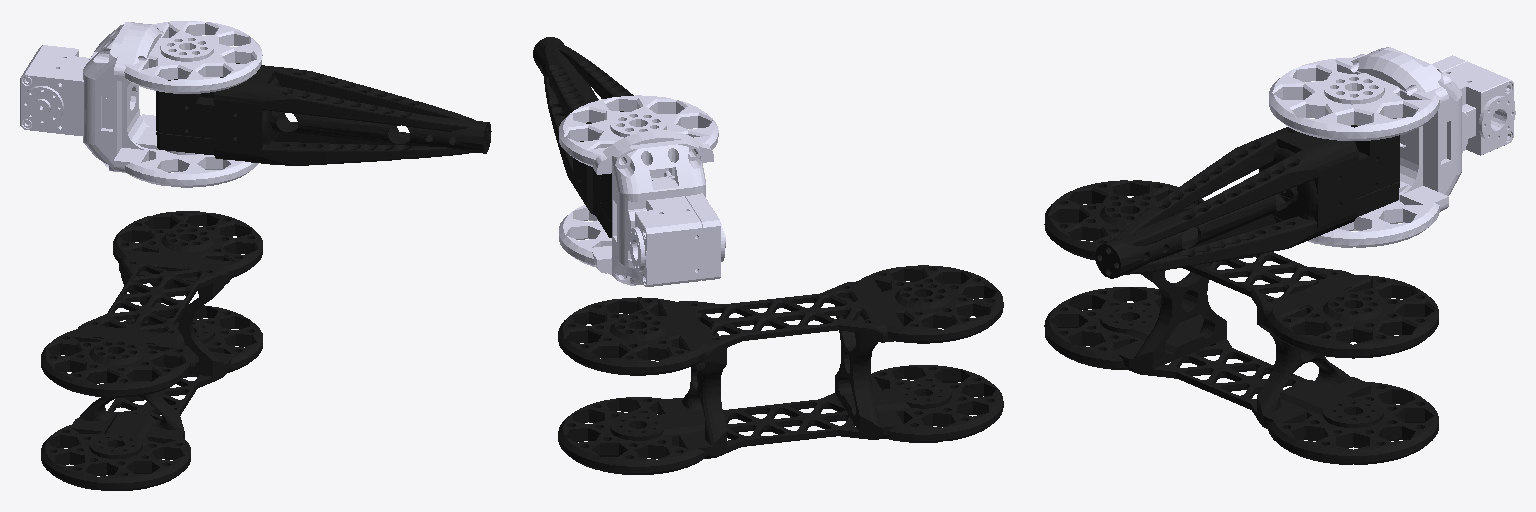
robot.urdf — Moonbot1:
<?xml version="1.0" ?>
<robot name="Moonbot1" xmlns:xacro="http://www.ros.org/wiki/xacro">
  

  <material name="Grey">
      <color rgba="0.9 0.9 0.98 1" />
  </material>
  <material name="Black">
      <color rgba="0.15 0.15 0.15 1" />
  </material>

  <link name="base_link">
  </link>

  <joint name="moonbot_attachment" type="fixed">
    <parent link="base_link"/>
    <child link="BODY"/>
    <origin rpy="0 0 2.35619449" xyz="0 0 0"/>
  </joint>
  
  <link name="BODY">
    <visual>
      <origin xyz="0 0 0" rpy="0 0 0" />
      <geometry>
        <mesh filename="package://rviz_basic/base_link.STL" />
      </geometry>
      <material name="Black" />
    </visual>
    <collision>
      <origin xyz="0 0 0" rpy="0 0 0" />
      <geometry>
        <mesh filename="package://rviz_basic/base_link.STL" />
      </geometry>
    </collision>
  </link>

  <joint name="Leg1_Joint1" type="revolute">
    <origin xyz="-0.128 -0.128 0" rpy="0 0 -2.356" />
    <parent link="BODY" />
    <child link="Leg1_Link1" />
    <axis xyz="0 0 1" />
    <limit
      lower="-1.57"
      upper="1.57"
      effort="2"
      velocity="3" />
  </joint>

  <link name="Leg1_Link1">
    <inertial>
      <origin xyz="-0.181 0 0" rpy="0 0 2.356" />
      <mass value="0.19524" />
      <inertia
        ixx="0.00013212"
        ixy="-2.569E-05"
        ixz="3.8551E-10"
        iyy="0.00013211"
        iyz="4.1271E-10"
        izz="0.00012874" />
    </inertial>
    <visual>
      <origin xyz="-0.181 0 0" rpy="0 0 2.356" />
      <geometry>
        <mesh filename="package://rviz_basic/Leg1_Link1.STL" />
      </geometry>
      <material name="Grey" />
    </visual>
    <collision>
      <origin xyz="-0.181 0 0" rpy="0 0 2.356" />
      <geometry>
        <mesh filename="package://rviz_basic/Leg1_Link1.STL" />
      </geometry>
    </collision>
  </link>


  <link name="Leg1_Link2">
    <inertial>
      <origin xyz="0.1051 0.283 0" rpy="1.571 0.785 1.571" />
      <mass value="0.2225" />
      <inertia
        ixx="0.00024185"
        ixy="1.6469E-05"
        ixz="2.7889E-10"
        iyy="0.00024185"
        iyz="-2.7889E-10"
        izz="0.00016006" />
    </inertial>
    <visual>
      <origin xyz="0.1051 0.283 0" rpy="1.571 0.785 1.571" />
      <geometry>
        <mesh filename="package://rviz_basic/Leg1_Link2.STL" />
      </geometry>
      <material name="Black" />
    </visual>
    <collision>
      <origin xyz="0.1051 0.283 0" rpy="1.571 0.785 1.571" />
      <geometry>
        <mesh filename="package://rviz_basic/Leg1_Link2.STL" />
      </geometry>
    </collision>
  </link>

  <joint name="Leg1_Joint2" type="revolute">
    <origin xyz="0.102 0 0.008" rpy="1.571 1.571 0" />
    <parent link="Leg1_Link1" />
    <child link="Leg1_Link2" />
    <axis xyz="0 0 1" />
    <limit
      lower="-1.57"
      upper="1.57"
      effort="2"
      velocity="3" />
  </joint>

  <link name="Leg1_Link3">
    <inertial>
      <origin xyz="-0.1095 -0.28 0.0023" rpy="1.55 0.785 -1.6" />
      <mass value="0.14207" />
      <inertia
        ixx="4.5915E-05"
        ixy="-5.5477E-06"
        ixz="-6.9185E-10"
        iyy="4.5915E-05"
        iyz="1.1922E-09"
        izz="5.1594E-05" />
    </inertial>
    <visual>
      <origin xyz="-0.1095 -0.28 0.0023" rpy="1.55 0.785 -1.6" />
      <geometry>
        <mesh filename="package://rviz_basic/Leg1_Link3.STL" />
      </geometry>
      <material name="Black" />
    </visual>
    <collision>
      <origin xyz="-0.1095 -0.28 0.0023" rpy="1.55 0.785 -1.6" />
      <geometry>
        <mesh filename="package://rviz_basic/Leg1_Link3.STL" />
      </geometry>
    </collision>
  </link>

  <joint name="Leg1_Joint3" type="revolute">
    <origin xyz="0.113 0 0" rpy="0 0 0" />
    <parent link="Leg1_Link2" />
    <child link="Leg1_Link3" />
    <axis xyz="0 0 1" />
    <limit
      lower="-1.57"
      upper="1.57"
      effort="2"
      velocity="3" />
  </joint>

  <link name="Leg2_Link1">
    <inertial>
      <origin xyz="-0.181 0 0" rpy="0 0 -2.356" />
      <mass value="0.19524" />
      <inertia
        ixx="0.00013211"
        ixy="2.569E-05"
        ixz="4.1271E-10"
        iyy="0.00013212"
        iyz="-3.8551E-10"
        izz="0.00012874" />
    </inertial>
    <visual>
      <origin xyz="-0.181 0 0" rpy="0 0 -2.356" />
      <geometry>
        <mesh filename="package://rviz_basic/Leg2_Link1.STL" />
      </geometry>
      <material name="Grey" />
    </visual>
    <collision>
      <origin xyz="-0.181 0 0" rpy="0 0 -2.356" />
      <geometry>
        <mesh filename="package://rviz_basic/Leg2_Link1.STL" />
      </geometry>
    </collision>
  </link>
  
  <joint name="Leg2_Joint1" type="revolute">
    <origin xyz="-0.128 0.128 0" rpy="0 0 2.356" />
    <parent link="BODY" />
    <child link="Leg2_Link1" />
    <axis xyz="0 0 1" />
    <limit
      lower="-1.57"
      upper="1.57"
      effort="2"
      velocity="3" />
  </joint>

  <link name="Leg2_Link2">
    <inertial>
      <origin xyz="0.1051 -0.283 0" rpy="1.571 2.356 1.571" />
      <mass value="0.2225" />
      <inertia
        ixx="0.00024185"
        ixy="-1.6469E-05"
        ixz="-3.0519E-10"
        iyy="0.00024185"
        iyz="3.0519E-10"
        izz="0.00016006" />
    </inertial>
    <visual>
      <origin xyz="0.1051 -0.283 0" rpy="1.571 2.356 1.571" />
      <geometry>
        <mesh filename="package://rviz_basic/Leg2_Link2.STL" />
      </geometry>
      <material name="Black" />
    </visual>
    <collision>
      <origin xyz="0.1051 -0.283 0" rpy="1.571 2.356 1.571" />
      <geometry>
        <mesh filename="package://rviz_basic/Leg2_Link2.STL" />
      </geometry>
    </collision>
  </link>

  <joint name="Leg2_Joint2" type="revolute">
    <origin xyz="0.102 0 0.008" rpy="1.571 1.571 0" />
    <parent link="Leg2_Link1" />
    <child link="Leg2_Link2" />
    <axis xyz="0 0 1" />
    <limit
      lower="-1.57"
      upper="1.57"
      effort="2"
      velocity="3" />
  </joint>

  <link name="Leg2_Link3">
    <inertial>
      <origin xyz="-0.1031 -0.28398 0.0027" rpy="-1.6 -2.356 1.6" />
      <mass value="0.14207" />
      <inertia
        ixx="4.5915E-05"
        ixy="5.5477E-06"
        ixz="1.1923E-09"
        iyy="4.5915E-05"
        iyz="6.9184E-10"
        izz="5.1594E-05" />
    </inertial>
    <visual>
      <origin xyz="-0.1031 -0.28398 0.0027" rpy="-1.6 -2.356 1.6" />
      <geometry>
        <mesh filename="package://rviz_basic/Leg2_Link3.STL" />
      </geometry>
      <material name="Black" />
    </visual>
    <collision>
      <origin xyz="-0.1031 -0.28398 0.0027" rpy="-1.6 -2.356 1.6" />
      <geometry>
        <mesh filename="package://rviz_basic/Leg2_Link3.STL" />
      </geometry>
    </collision>
  </link>

  <joint name="Leg2_Joint3" type="revolute">
    <origin xyz="0.113 0 0" rpy="0 0 0" />
    <parent link="Leg2_Link2" />
    <child link="Leg2_Link3" />
    <axis xyz="0 0 1" />
    <limit
      lower="-1.57"
      upper="1.57"
      effort="2"
      velocity="3" />
  </joint>

  <link name="Leg3_Link1">
    <inertial>
      <origin xyz="-0.181 0 0" rpy="0 0 0.785" />
      <mass value="0.19524" />
      <inertia
        ixx="0.00013212"
        ixy="2.569E-05"
        ixz="3.8551E-10"
        iyy="0.00013211"
        iyz="-4.1271E-10"
        izz="0.00012874" />
    </inertial>
    <visual>
      <origin xyz="-0.181 0 0" rpy="0 0 0.785" />
      <geometry>
        <mesh filename="package://rviz_basic/Leg3_Link1.STL" />
      </geometry>
      <material name="Grey" />
    </visual>
    <collision>
      <origin xyz="-0.181 0 0" rpy="0 0 0.785" />
      <geometry>
        <mesh filename="package://rviz_basic/Leg3_Link1.STL" />
      </geometry>
    </collision>
  </link>
  
  <joint name="Leg3_Joint1" type="revolute">
    <origin xyz="0.128 -0.128 0" rpy="0 0 -0.785" />
    <parent link="BODY" />
    <child link="Leg3_Link1" />
    <axis xyz="0 0 1" />
    <limit
      lower="-1.57"
      upper="1.57"
      effort="2"
      velocity="3" />
  </joint>

  <link name="Leg3_Link2">
    <inertial>
      <origin xyz="0.1051 -0.283 0" rpy="1.571 -0.785 1.571" />
      <mass value="0.2225" />
      <inertia
        ixx="0.00024185"
        ixy="-1.6469E-05"
        ixz="-3.0519E-10"
        iyy="0.00024185"
        iyz="3.0519E-10"
        izz="0.00016006" />
    </inertial>
    <visual>
      <origin xyz="0.1051 -0.283 0" rpy="1.571 -0.785 1.571" />
      <geometry>
        <mesh filename="package://rviz_basic/Leg3_Link2.STL" />
      </geometry>
      <material name="Black" />
    </visual>
    <collision>
      <origin xyz="0.1051 -0.283 0" rpy="1.571 -0.785 1.571" />
      <geometry>
        <mesh filename="package://rviz_basic/Leg3_Link2.STL" />
      </geometry>
    </collision>
  </link>

  <joint name="Leg3_Joint2" type="revolute">
    <origin xyz="0.102 0 0.008" rpy="1.571 1.571 0" />
    <parent link="Leg3_Link1" />
    <child link="Leg3_Link2" />
    <axis xyz="0 0 1" />
    <limit
      lower="-1.57"
      upper="1.57"
      effort="2"
      velocity="3" />
  </joint>

  <link name="Leg3_Link3">
    <inertial>
      <origin xyz="-0.1095 -0.283 0.00425" rpy="1.6 2.356 -1.55" />
      <mass value="0.14207" />
      <inertia
        ixx="4.5915E-05"
        ixy="5.5477E-06"
        ixz="-1.1923E-09"
        iyy="4.5915E-05"
        iyz="-6.9184E-10"
        izz="5.1594E-05" />
    </inertial>
    <visual>
      <origin xyz="-0.1095 -0.283 0.00425" rpy="1.6 2.356 -1.55" />
      <geometry>
        <mesh filename="package://rviz_basic/Leg3_Link3.STL" />
      </geometry>
      <material name="Black" />
    </visual>
    <collision>
      <origin xyz="-0.1095 -0.283 0.00425" rpy="1.6 2.356 -1.55" />
      <geometry>
        <mesh filename="package://rviz_basic/Leg3_Link3.STL" />
      </geometry>
    </collision>
  </link>

  <joint name="Leg3_Joint3" type="revolute">
    <origin xyz="0.113 0 0" rpy="0 0 0" />
    <parent link="Leg3_Link2" />
    <child link="Leg3_Link3" />
    <axis xyz="0 0 1" />
    <limit
      lower="-1.57"
      upper="1.57"
      effort="2"
      velocity="3" />
  </joint>
  
  <link name="Leg4_Link1">
    <inertial>
      <origin xyz="-0.181 0 0" rpy="0 0 -0.785" />
      <mass value="1.7613" />
      <inertia
        ixx="0.0022157"
        ixy="1.9729E-07"
        ixz="6.2687E-11"
        iyy="0.0022117"
        iyz="-1.9316E-10"
        izz="0.0037074" />
    </inertial>
    <visual>
      <origin xyz="-0.181 0 0" rpy="0 0 -0.785" />
      <geometry>
        <mesh filename="package://rviz_basic/Leg4_Link1.STL" />
      </geometry>
      <material name="Grey" />
    </visual>
    <collision>
      <origin xyz="-0.181 0 0" rpy="0 0 -0.785" />
      <geometry>
        <mesh filename="package://rviz_basic/Leg4_Link1.STL" />
      </geometry>
    </collision>
  </link>

  <joint name="Leg4_Joint1" type="revolute">
    <origin xyz="0.128 0.128 0" rpy="0 0 0.785" />
    <parent link="BODY" />
    <child link="Leg4_Link1" />
    <axis xyz="0 0 1" />
    <limit
      lower="-1.57"
      upper="1.57"
      effort="2"
      velocity="3" />
  </joint>
  
  <link name="Leg4_Link2">
    <inertial>
      <origin xyz="0.1051 -0.283 0" rpy="1.571 0.785 1.571" />
      <mass value="0.2225" />
      <inertia
        ixx="0.00024185"
        ixy="1.6469E-05"
        ixz="-3.0519E-10"
        iyy="0.00024185"
        iyz="-3.0519E-10"
        izz="0.00016006" />
    </inertial>
    <visual>
      <origin xyz="0.1051 -0.283 0" rpy="1.571 0.785 1.571" />
      <geometry>
        <mesh filename="package://rviz_basic/Leg4_Link2.STL" />
      </geometry>
      <material name="Black" />
    </visual>
    <collision>
      <origin xyz="0.1051 -0.283 0" rpy="1.571 0.785 1.571" />
      <geometry>
        <mesh filename="package://rviz_basic/Leg4_Link2.STL" />
      </geometry>
    </collision>
  </link>

  <joint name="Leg4_Joint2" type="revolute">
    <origin xyz="0.102 0 0.008" rpy="1.571 1.571 0" />
    <parent link="Leg4_Link1" />
    <child link="Leg4_Link2" />
    <axis xyz="0 0 1" />
    <limit
      lower="-1.57"
      upper="1.57"
      effort="2"
      velocity="3" />
  </joint>

  <link name="Leg4_Link3">
    <inertial>
      <origin xyz="-0.1031 -0.2835 0.0018" rpy="-1.55 -0.785 1.558" />
      <mass value="0.14207" />
      <inertia
        ixx="4.5915E-05"
        ixy="-5.5477E-06"
        ixz="6.9186E-10"
        iyy="4.5915E-05"
        iyz="-1.1923E-09"
        izz="5.1594E-05" />
    </inertial>
    <visual>
      <origin xyz="-0.1031 -0.2835 0.0018" rpy="-1.55 -0.785 1.558" />
      <geometry>
        <mesh filename="package://rviz_basic/Leg4_Link3.STL" />
      </geometry>
      <material name="Black" />
    </visual>
    <collision>
      <origin xyz="-0.1031 -0.2835 0.0018" rpy="-1.55 -0.785 1.558" />
      <geometry>
        <mesh filename="package://rviz_basic/Leg4_Link3.STL" />
      </geometry>
    </collision>
  </link>

  <joint name="Leg4_Joint3" type="revolute">
    <origin xyz="0.113 0 0" rpy="0 0 0" />
    <parent link="Leg4_Link2" />
    <child link="Leg4_Link3" />
    <axis xyz="0 0 1" />
    <limit
      lower="-1.57"
      upper="1.57"
      effort="2"
      velocity="3" />
  </joint>
</robot>

--- What the picture shows (computed from the rendered views, not written in the file) ---
3 views of the same robot in one strip: view 1: azimuth 30°, elevation 25°; view 2: azimuth 150°, elevation 25°; view 3: azimuth 270°, elevation 25° (orthographic).
Model Moonbot1 with 14 links and 13 joints (12 revolute, 1 fixed), rooted at base_link, posed every joint at zero.
Links seen in each view (by area): view 1: Leg4_Link2, Leg4_Link1, Leg4_Link3; view 2: Leg4_Link2, Leg4_Link1, Leg4_Link3; view 3: Leg4_Link2, Leg4_Link1, Leg4_Link3.
Link boxes in pixels (x1,y1,x2,y2): Leg4_Link2: [41, 211, 262, 490]; Leg4_Link1: [20, 21, 262, 187]; Leg4_Link3: [156, 63, 491, 165]; Leg4_Link2: [558, 265, 1003, 474]; Leg4_Link1: [559, 95, 725, 286]; Leg4_Link3: [533, 37, 633, 237]; Leg4_Link2: [1044, 180, 1438, 464]; Leg4_Link1: [1269, 47, 1515, 247]; Leg4_Link3: [1095, 125, 1399, 278].
Bounding box of the posed robot: 0.2345 × 0.1923 × 0.1622 m (x, y, z).
3 mesh visuals loaded from 13 distinct referenced files (3 binary STL); not drawn: 10 (reference not matched to a file when rendering).